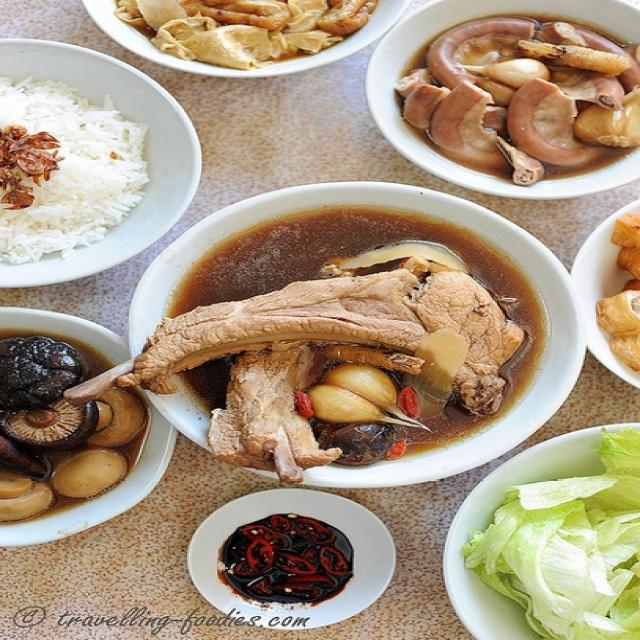汤锅炖物: (166, 202, 526, 461)
